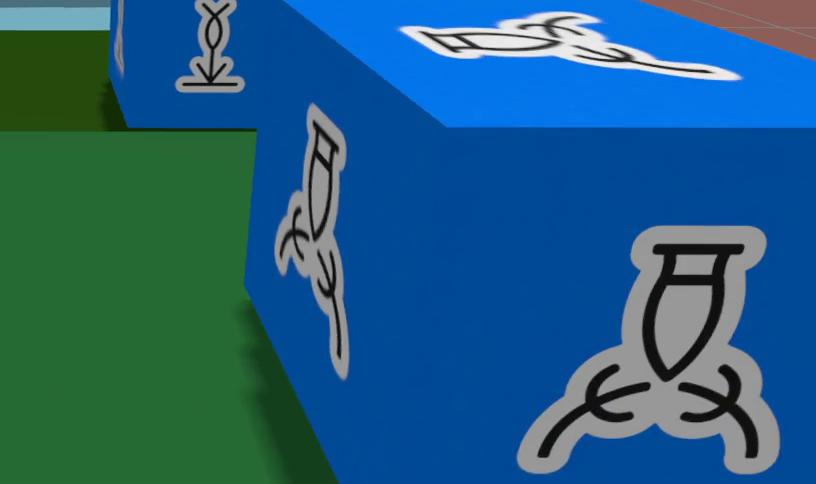KFS_REAL: (243, 0, 815, 483), (517, 226, 780, 474), (398, 11, 739, 78), (273, 103, 351, 378), (108, 0, 271, 127), (176, 0, 245, 92)
